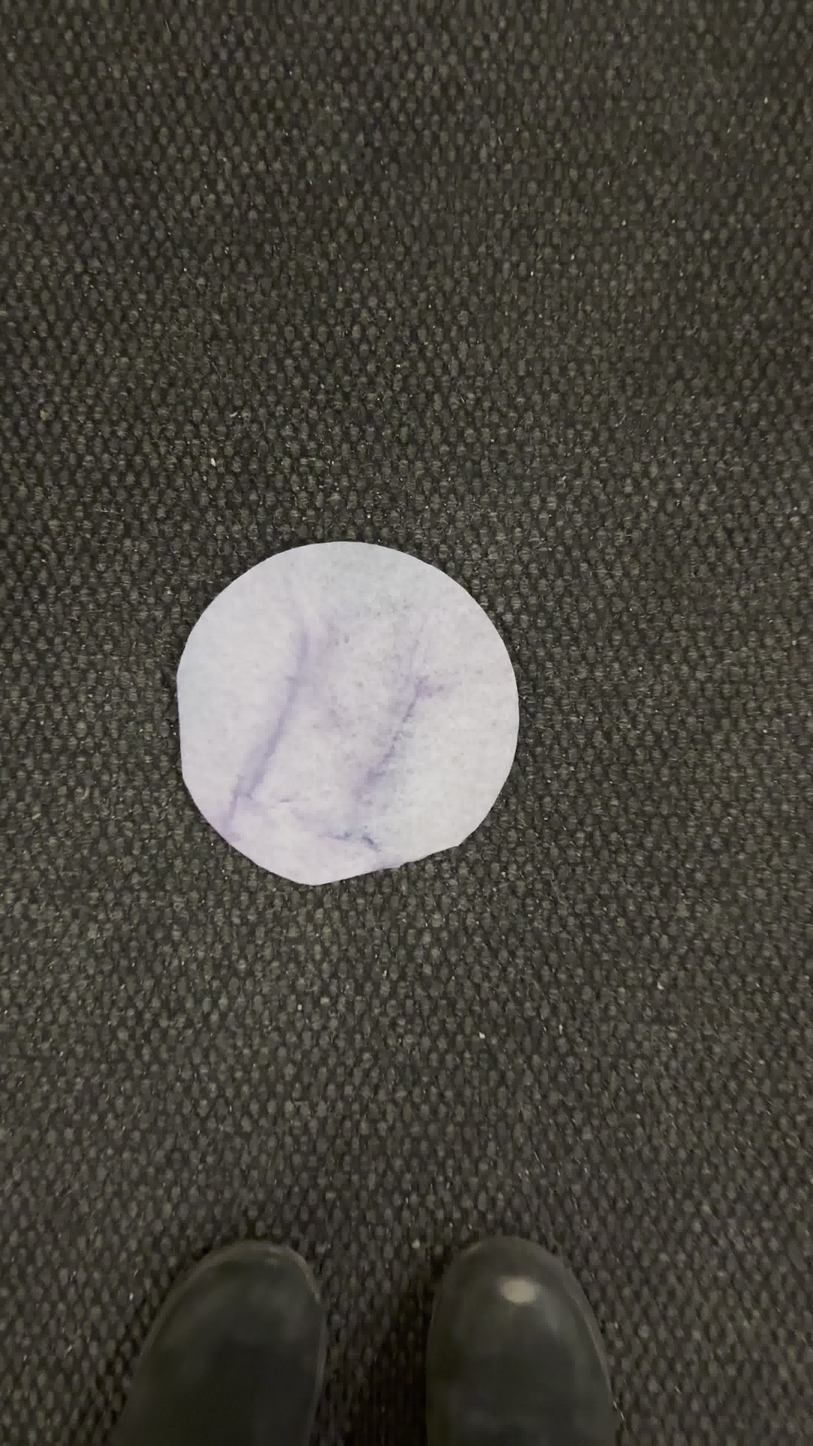Target: (169, 535, 522, 895)
